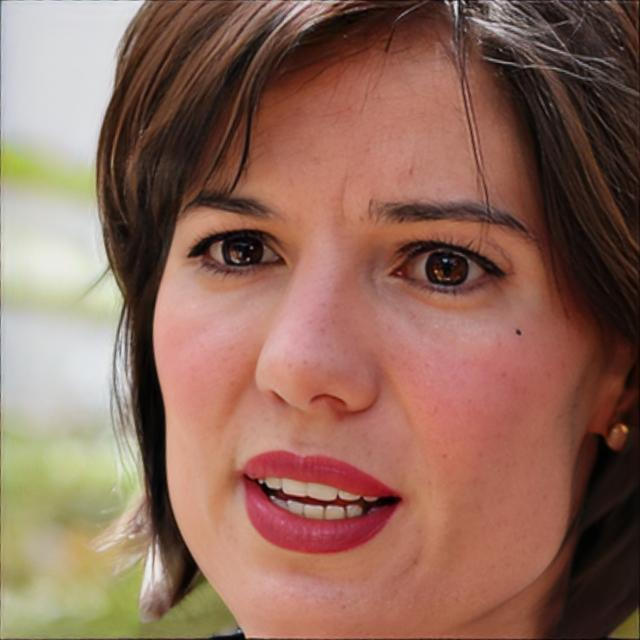fear: (146, 26, 588, 627)
